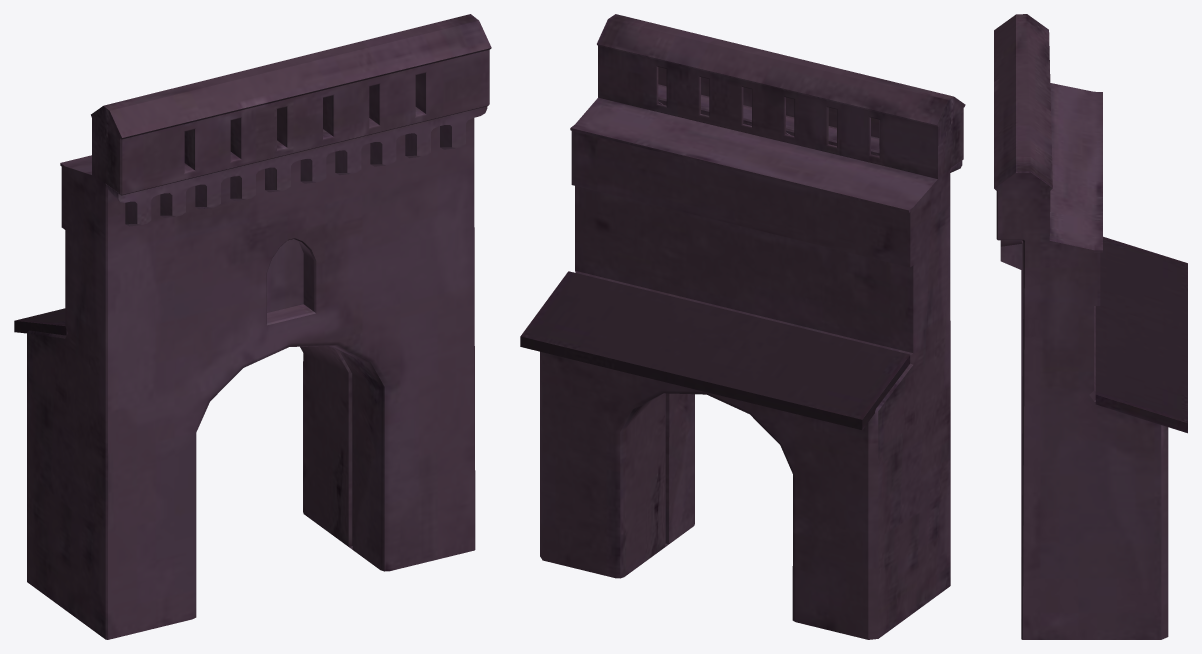
File: fort_gate_dark.gltf
3 renders of one model, left to right at view 1: azimuth 30°, elevation 25°; view 2: azimuth 150°, elevation 25°; view 3: azimuth 270°, elevation 25°, orthographic. The views are drawn at different scales.
Parts seen in each view (by area): view 1: fort_gate; view 2: fort_gate; view 3: fort_gate.
Boxes of the visible parts, box(x1,y1,x2,y2) form: fort_gate: box(14, 14, 491, 639); fort_gate: box(520, 14, 965, 639); fort_gate: box(994, 14, 1187, 639).
Bounding box in the file's own units: 12.29 × 16.62 × 6.24.
Materials: 1 (1 with a texture image).
